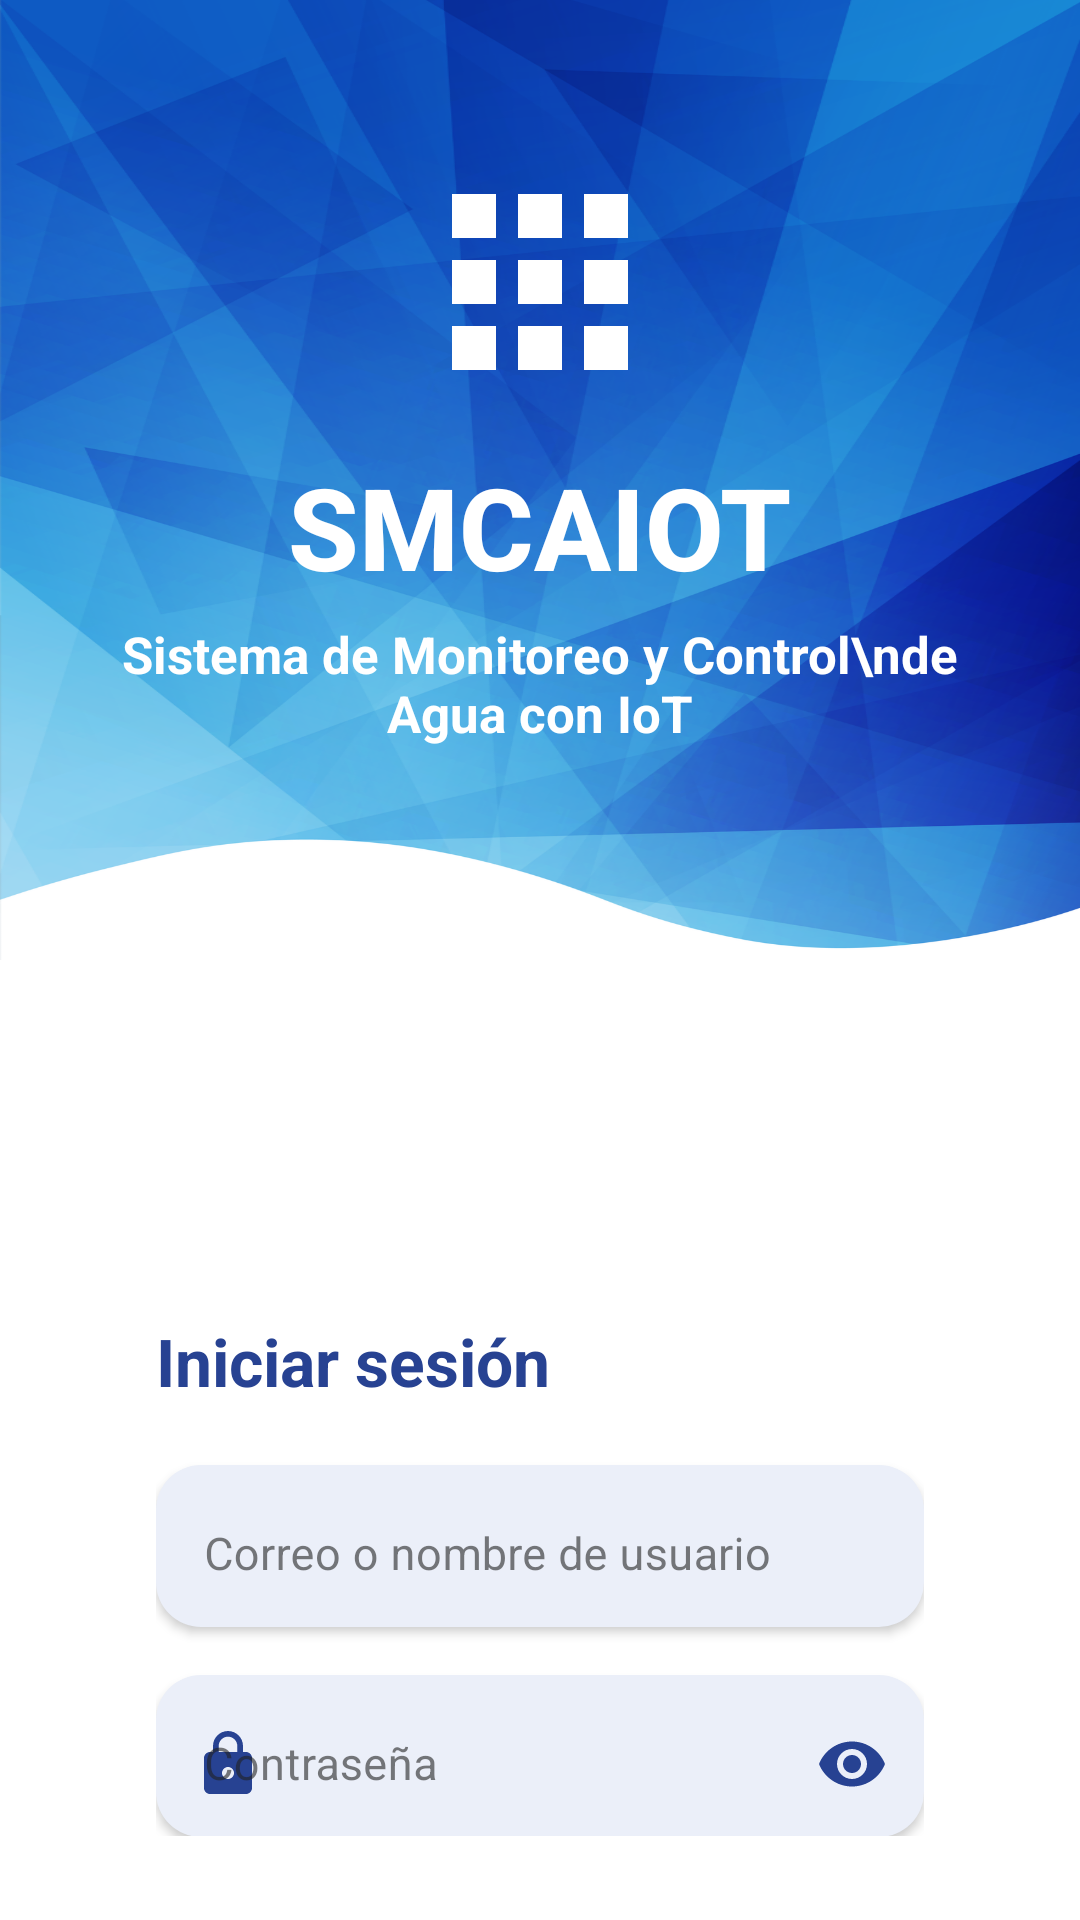

Named icons in this screenshot (1080×1920) and their centers, point (x, y):
entities: point (540, 282)
